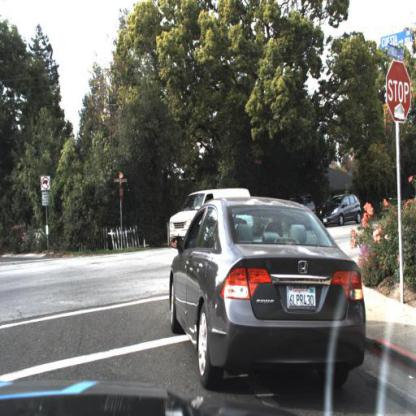car: (170, 197, 366, 394), (168, 190, 254, 250), (317, 182, 363, 232)
